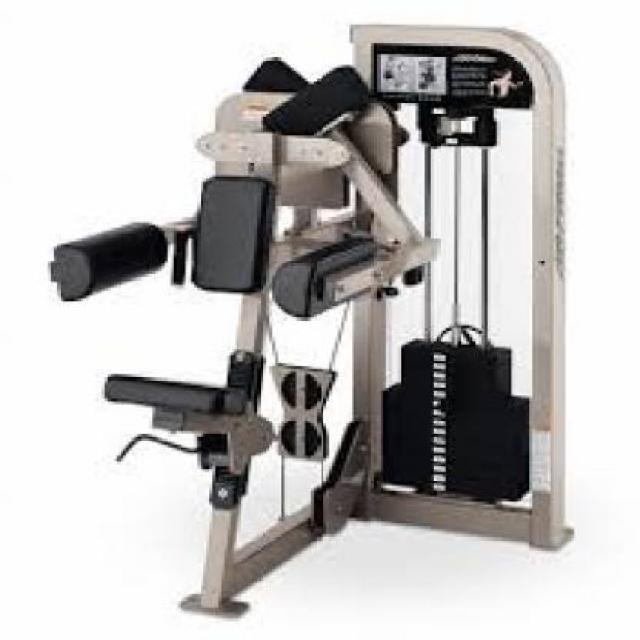lateral raises machine: (51, 23, 578, 619)
